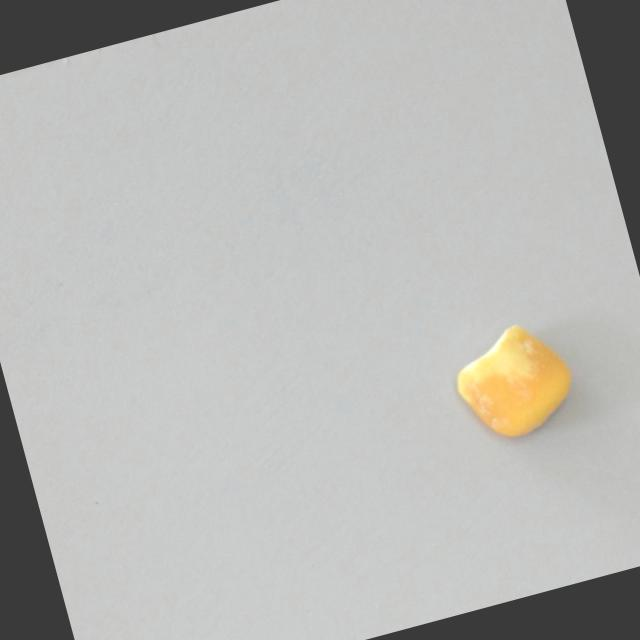pelicula: (447, 313, 583, 446)
